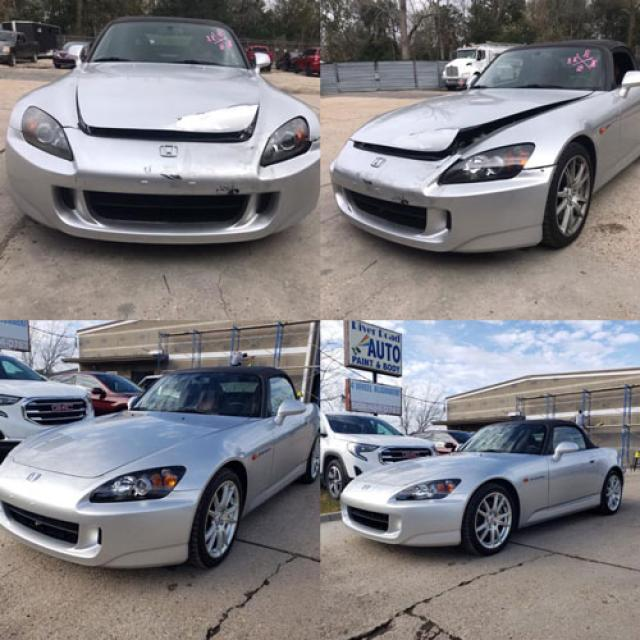crush: (351, 94, 592, 206), (140, 103, 261, 198)
